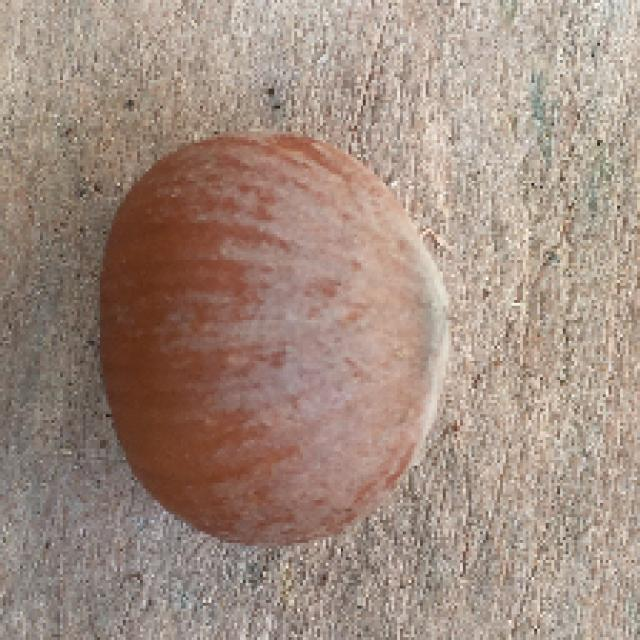QualityHazelnut: (99, 127, 453, 548)
